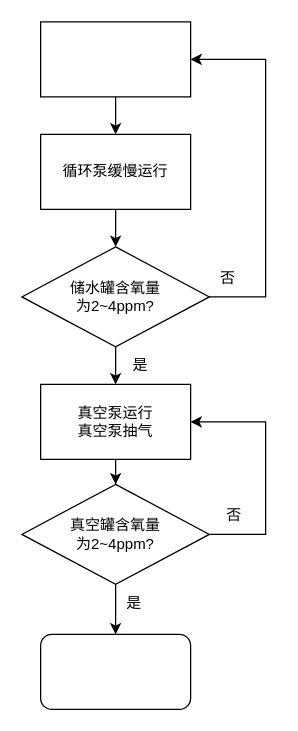
Image size: 298x731. Some labels were removed from this diagram. The centre of each missing label's shape, as x and y in pixels:
"停止真空泵 和循环泵" belongs at point 115,671.
"真空泵运行 储水罐抽气" belongs at point 115,59.
